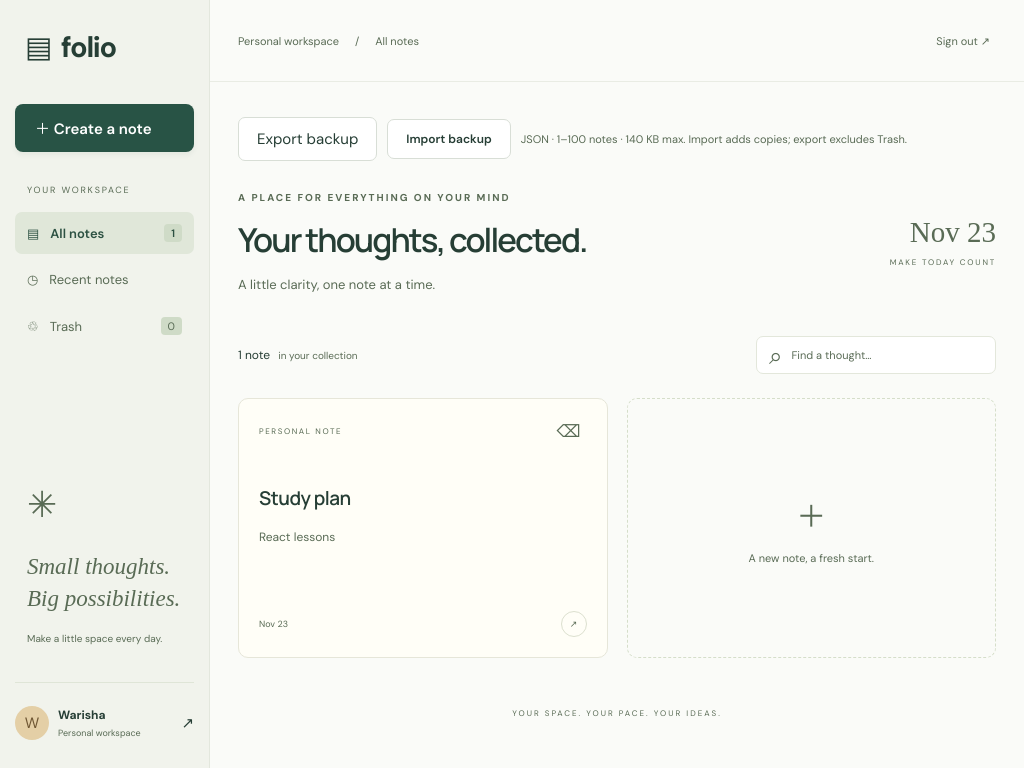
Scenario: session expiry while deleting clears private UI before next sign in
The image size is (1024, 768).
Click the button named "Delete Study plan". click: (568, 431)
box: [550,419,586,443]
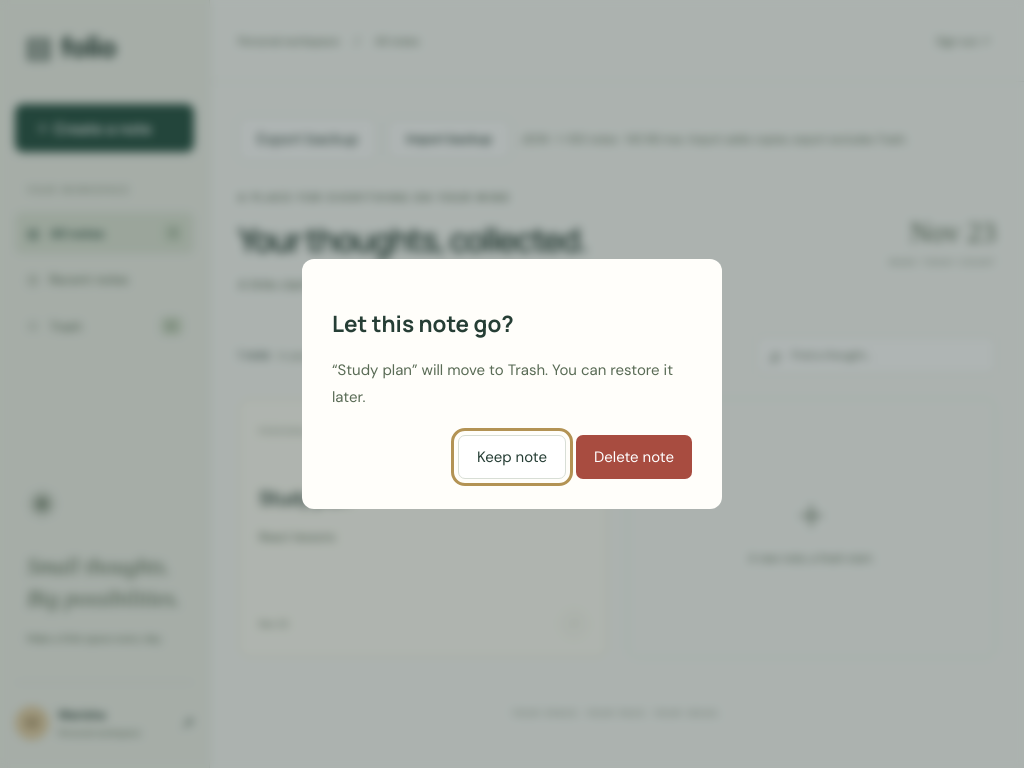
Click the button "Delete note". click: (634, 457)
box: [576,435,692,479]
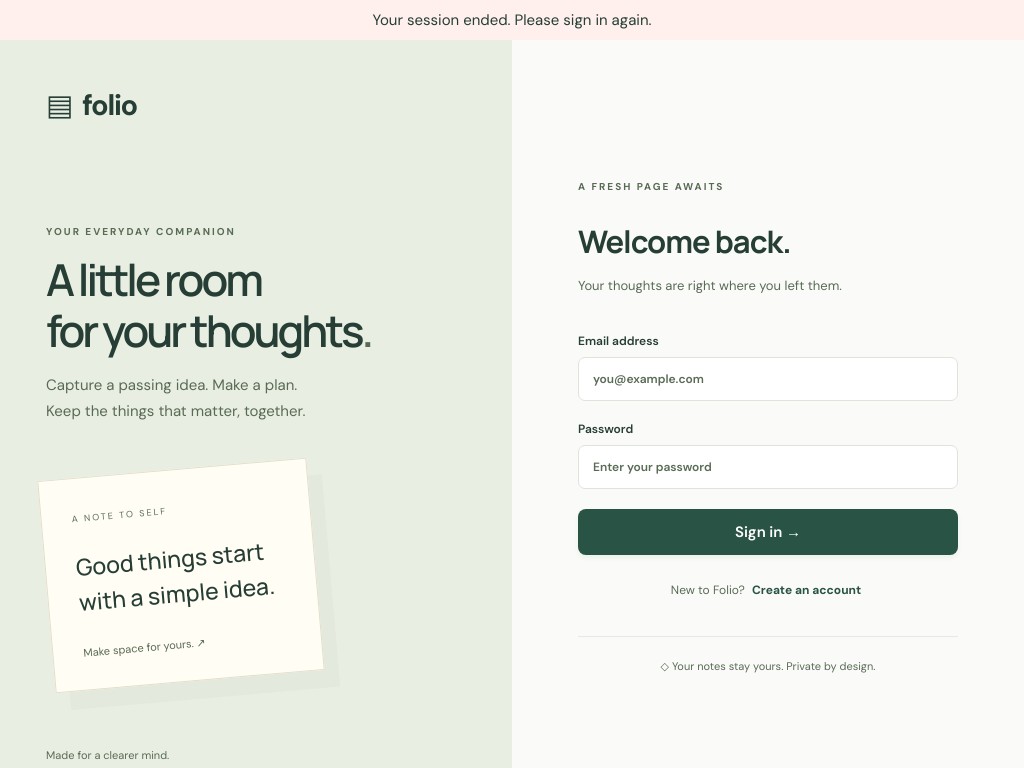
Now the heading "Welcome back." is shown, box [578,220,791,262]
Now the dialog is gone
Now the message shows "session ended", box [372,10,652,30]
